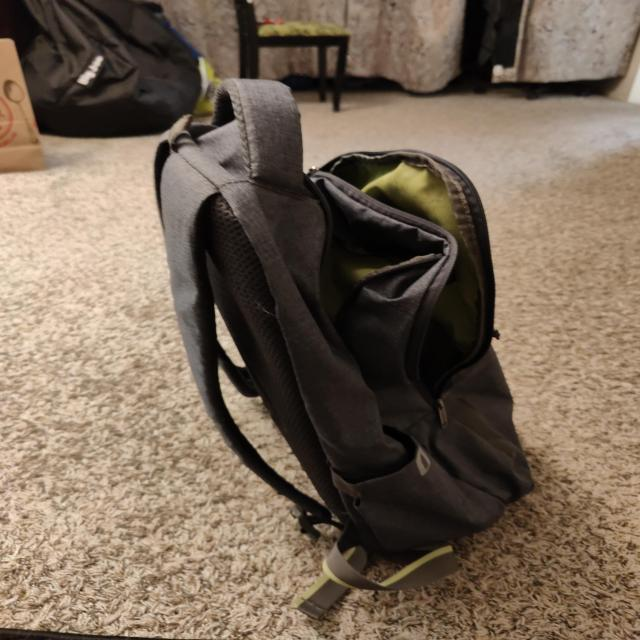bag: (216, 120, 534, 565)
